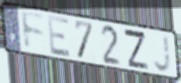2: (100, 23, 121, 68)
7: (74, 19, 95, 60)
E: (46, 14, 73, 60)
F: (19, 9, 46, 51)
J: (152, 33, 173, 74)
Z: (122, 27, 150, 72)
